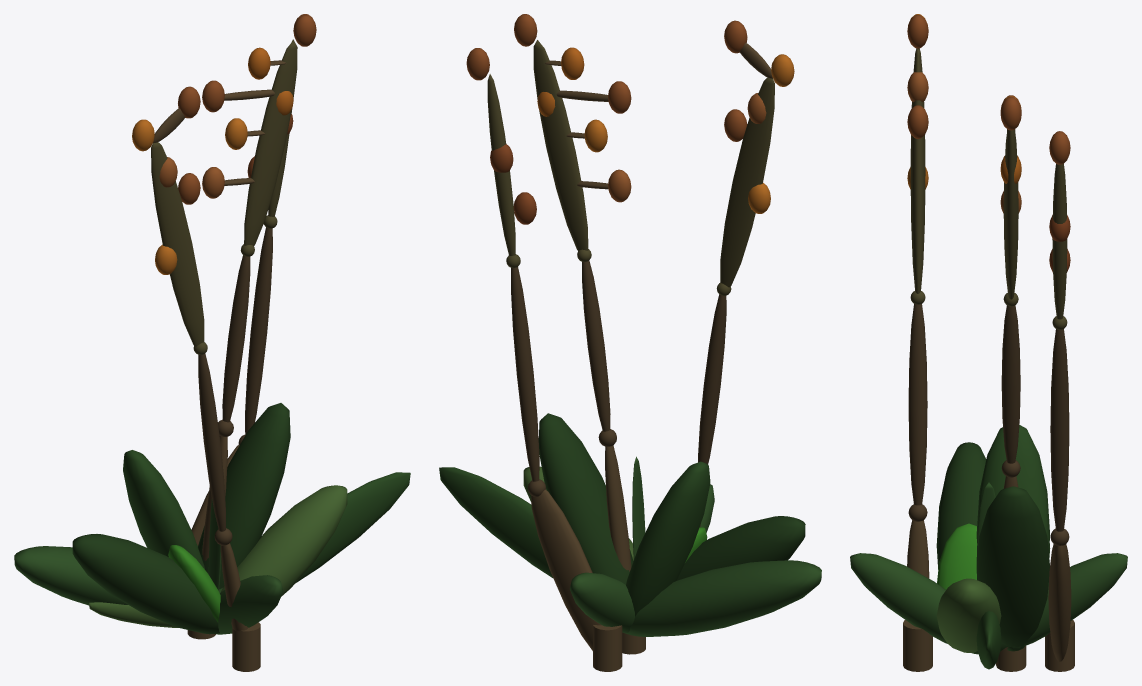
Rendered from CMU3DRMCBushe2.glb.
3 views of the same model, side by side, from view 1: azimuth 30°, elevation 25°; view 2: azimuth 150°, elevation 25°; view 3: azimuth 270°, elevation 25° (orthographic). The views are drawn at different scales.
Parts seen in each view (by area): view 1: basal leaf 1, basal leaf 6, basal leaf 7, basal leaf 3, visible stem 0 section 2, visible stem 1 section 2, basal leaf 0, basal leaf 8, visible stem 2 section 1, visible stem 0 section 1, inferred front back basal leaf 0, visible stem 1 section 1 (+12 smaller); view 2: basal leaf 0, basal leaf 6, basal leaf 3, basal leaf 8, visible stem 0 section 2, visible stem 1 section 2, basal leaf 1, visible stem 2 section 0, visible stem 2 section 1, inferred front back basal leaf 1, visible stem 0 section 1, visible stem 1 section 1 (+15 smaller); view 3: basal leaf 6, inferred front back basal leaf 0, basal leaf 1, visible stem 2 section 1, visible stem 0 section 1, basal leaf 7, basal leaf 3, inferred front back basal leaf 1, visible stem 1 section 1, visible stem 0 section 2, visible stem 2 section 0, visible stem 1 section 2 (+13 smaller).
Part boxes in pixels (x1=…): basal leaf 1: x1=72, y1=534, x2=219, y2=634; basal leaf 6: x1=198, y1=403, x2=290, y2=588; basal leaf 7: x1=221, y1=485, x2=347, y2=596; basal leaf 3: x1=123, y1=450, x2=204, y2=569; visible stem 0 section 2: x1=151, y1=142, x2=204, y2=346; visible stem 1 section 2: x1=244, y1=40, x2=297, y2=245; basal leaf 0: x1=14, y1=546, x2=127, y2=605; basal leaf 8: x1=219, y1=472, x2=410, y2=592; visible stem 2 section 1: x1=245, y1=227, x2=272, y2=434; visible stem 0 section 1: x1=198, y1=354, x2=225, y2=531; inferred front back basal leaf 0: x1=216, y1=575, x2=283, y2=634; visible stem 1 section 1: x1=222, y1=255, x2=250, y2=422; basal leaf 0: x1=623, y1=560, x2=821, y2=636; basal leaf 6: x1=538, y1=413, x2=633, y2=584; basal leaf 3: x1=626, y1=461, x2=710, y2=616; basal leaf 8: x1=439, y1=467, x2=552, y2=577; visible stem 0 section 2: x1=720, y1=77, x2=774, y2=287; visible stem 1 section 2: x1=533, y1=40, x2=588, y2=250; basal leaf 1: x1=676, y1=516, x2=805, y2=580; visible stem 2 section 0: x1=531, y1=489, x2=601, y2=650; visible stem 2 section 1: x1=511, y1=267, x2=539, y2=481; inferred front back basal leaf 1: x1=570, y1=572, x2=634, y2=632; visible stem 0 section 1: x1=698, y1=294, x2=726, y2=463; visible stem 1 section 1: x1=582, y1=260, x2=610, y2=431; basal leaf 6: x1=976, y1=486, x2=1049, y2=646; inferred front back basal leaf 0: x1=850, y1=553, x2=978, y2=654; basal leaf 1: x1=936, y1=442, x2=986, y2=569; visible stem 2 section 1: x1=1050, y1=329, x2=1069, y2=531; visible stem 0 section 1: x1=908, y1=304, x2=927, y2=505; basal leaf 7: x1=936, y1=578, x2=1001, y2=652; basal leaf 3: x1=976, y1=425, x2=1049, y2=551; inferred front back basal leaf 1: x1=1000, y1=553, x2=1127, y2=651; visible stem 1 section 1: x1=1001, y1=305, x2=1020, y2=463; visible stem 0 section 2: x1=910, y1=49, x2=925, y2=293; visible stem 2 section 0: x1=1048, y1=544, x2=1071, y2=661; visible stem 1 section 2: x1=1003, y1=129, x2=1018, y2=299.
Size of the model in its own units: 0.5234 by 0.7723 by 0.3133.
